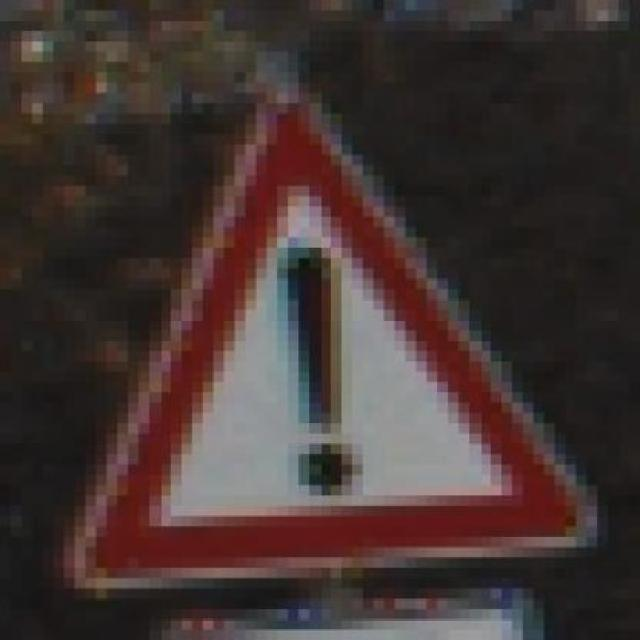Attention Please-: (53, 82, 609, 578)
